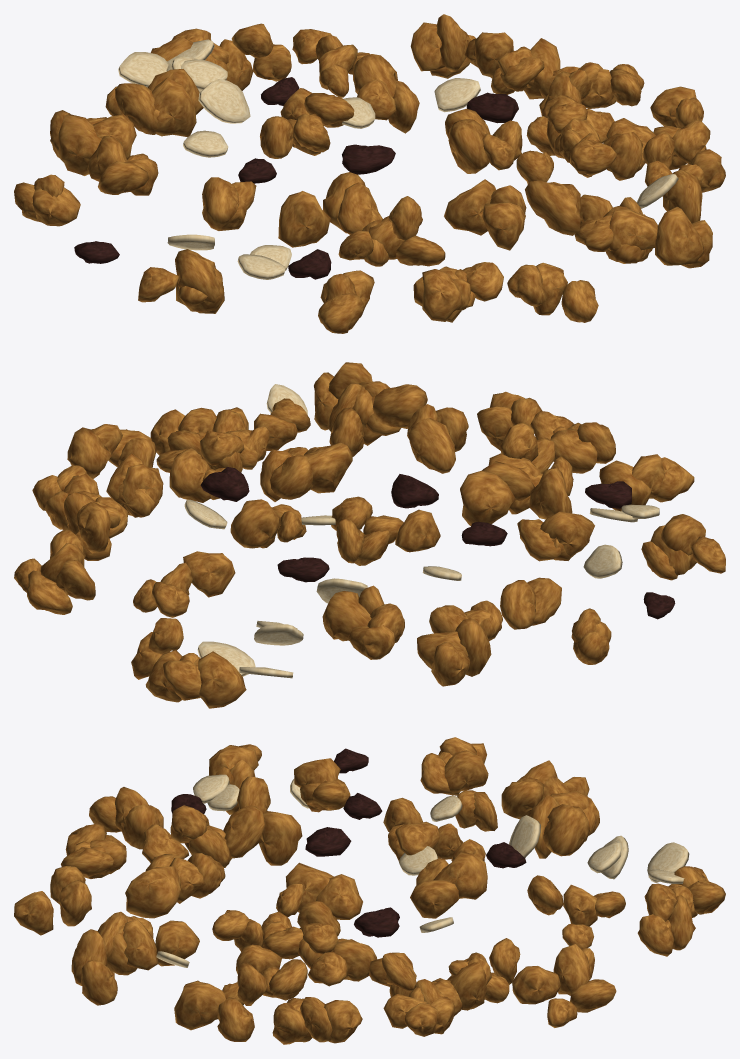
File: granola.glb
3 views of the same model, one above another, from view 1: azimuth 30°, elevation 25°; view 2: azimuth 150°, elevation 25°; view 3: azimuth 270°, elevation 25° (orthographic). The views are drawn at different scales.
Parts seen in each view (by area): view 1: granola_25, granola_29, granola_7, granola_18, granola_23, granola_3, granola_41, granola_37, granola_1, granola_11, granola_32, granola_2 (+34 smaller); view 2: granola_25, granola_29, granola_32, granola_7, granola_3, granola_8, granola_40, granola_37, granola_42, granola_10, granola_44, granola_23 (+32 smaller); view 3: granola_25, granola_29, granola_3, granola_10, granola_21, granola_41, granola_19, granola_12, granola_7, granola_8, granola_42, granola_40 (+30 smaller).
Boxes of the visible parts, <box> form: granola_25: <box>444,179,581,250</box>; granola_29: <box>278,172,382,247</box>; granola_7: <box>105,69,203,136</box>; granola_18: <box>338,196,445,266</box>; granola_23: <box>413,262,503,322</box>; granola_3: <box>445,108,522,173</box>; granola_41: <box>574,194,657,251</box>; granola_37: <box>138,249,224,313</box>; granola_1: <box>260,93,354,158</box>; granola_11: <box>507,262,598,322</box>; granola_32: <box>50,110,136,175</box>; granola_2: <box>605,206,712,268</box>; granola_25: <box>372,384,468,473</box>; granola_29: <box>460,461,572,526</box>; granola_32: <box>417,605,491,686</box>; granola_7: <box>322,585,404,659</box>; granola_3: <box>260,442,352,501</box>; granola_8: <box>133,551,235,617</box>; granola_40: <box>14,543,95,614</box>; granola_37: <box>641,514,725,580</box>; granola_42: <box>156,431,244,502</box>; granola_10: <box>464,577,561,641</box>; granola_44: <box>163,651,246,708</box>; granola_23: <box>530,411,615,473</box>; granola_25: <box>125,853,225,918</box>; granola_29: <box>223,776,302,865</box>; granola_3: <box>276,862,362,936</box>; granola_10: <box>420,750,497,831</box>; granola_21: <box>234,919,307,1005</box>; granola_41: <box>97,911,199,970</box>; granola_19: <box>272,997,362,1044</box>; granola_12: <box>410,851,487,918</box>; granola_7: <box>530,791,599,858</box>; granola_8: <box>527,875,625,949</box>; granola_42: <box>298,923,377,986</box>; granola_40: <box>547,944,616,1027</box>.
Bounding box in the file's own units: 0.9468 × 0.1671 × 1.02.
Materials: 3 (3 with a texture image).
